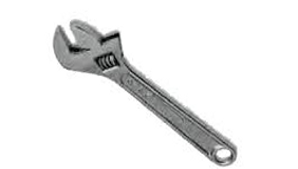Wrench: (50, 12, 242, 167)
